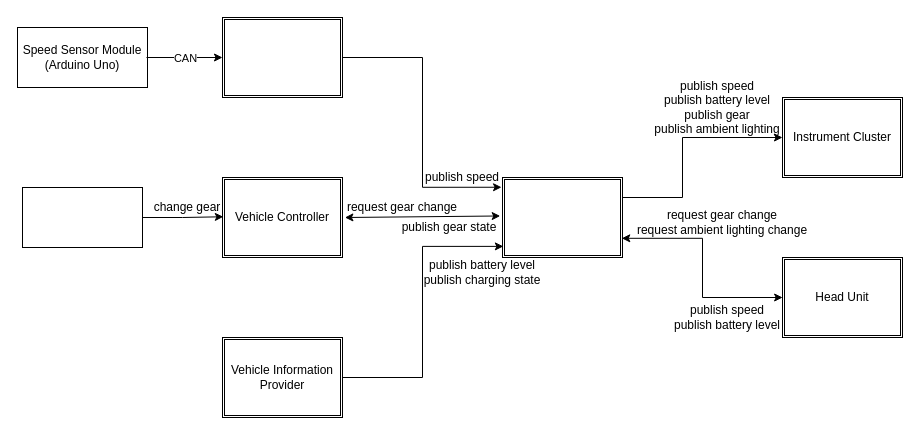
The diagram is 920 pixels wide and 435 high, and some of its shapes have lost their labels. Each missing label, with the centre of its shape:
"CAN Manager" belongs at [282,57].
"Gamepad" belongs at [82,217].
"Service Manager" belongs at [562,217].
